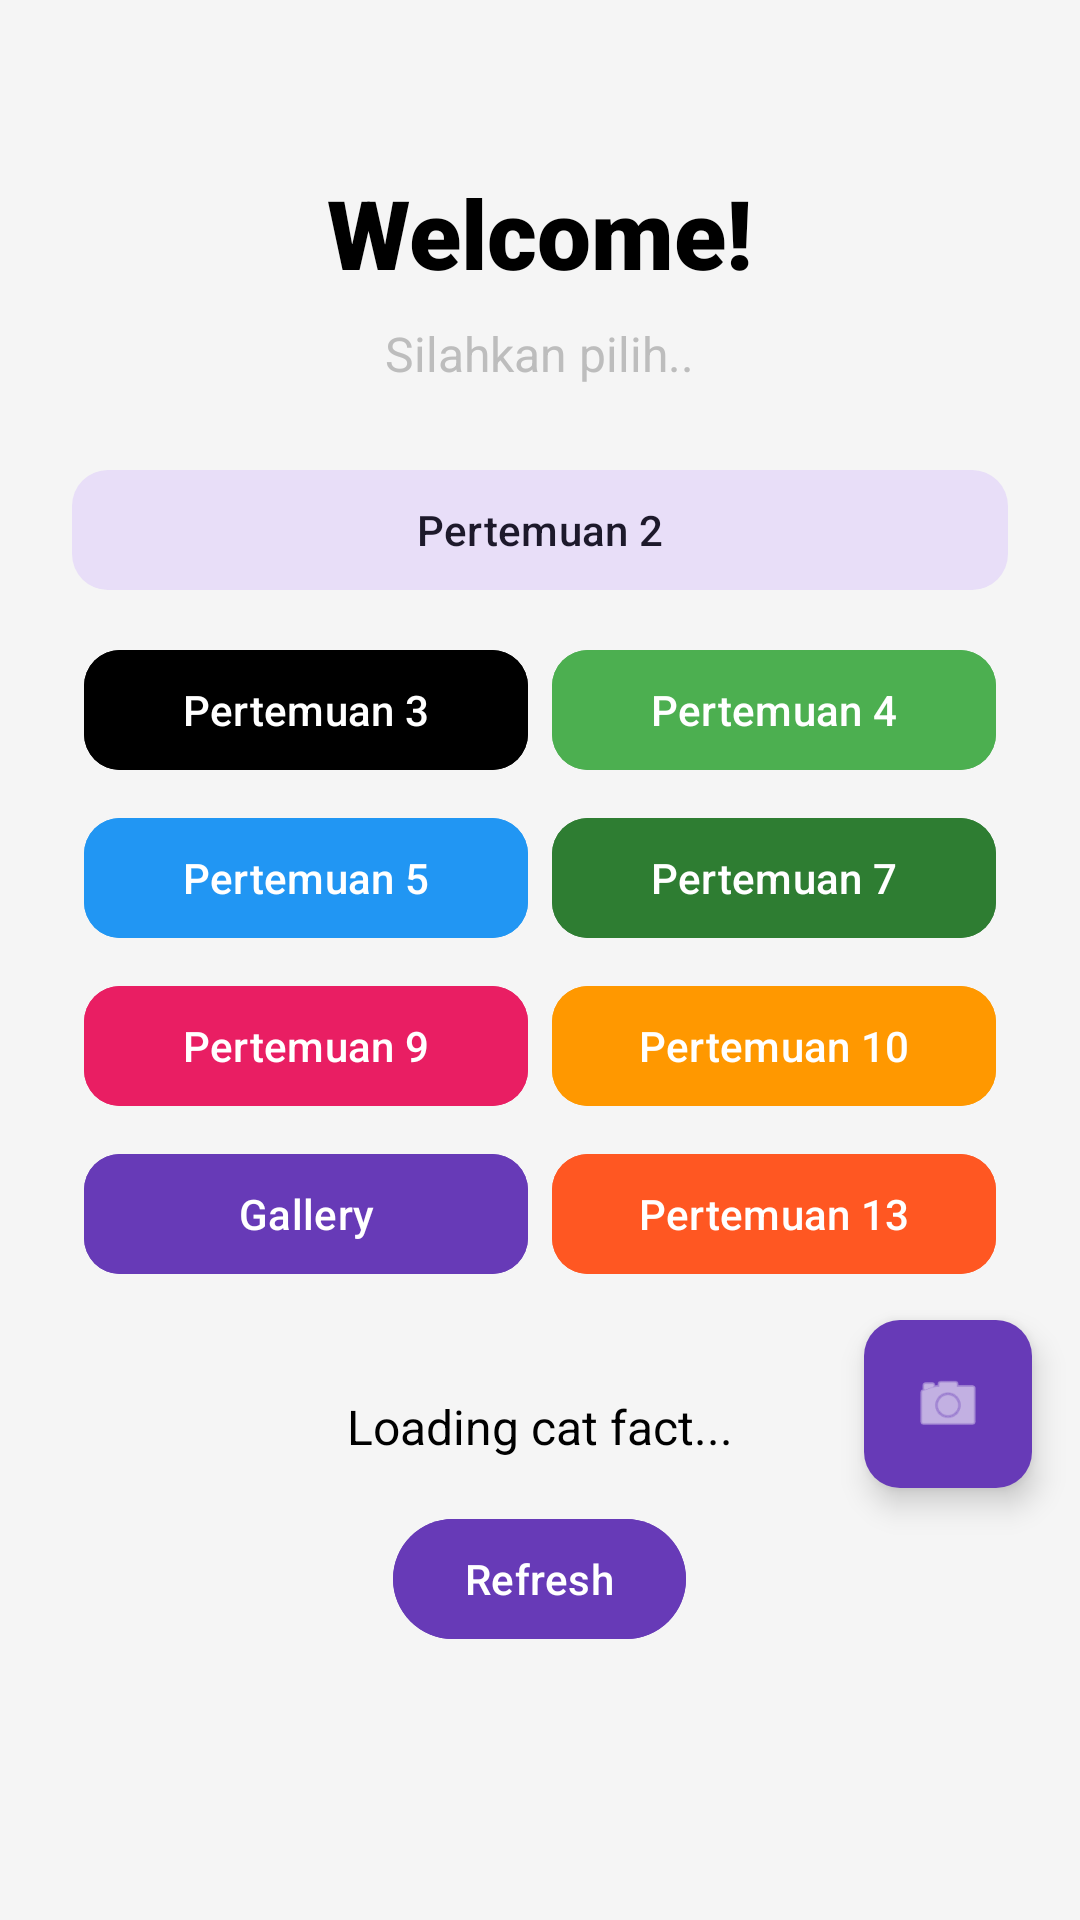

Screen size 1080 × 1920. Icon name, then its box in pixels as (x1, y1, x2, y2):
camera: (864, 1320, 1032, 1488)
